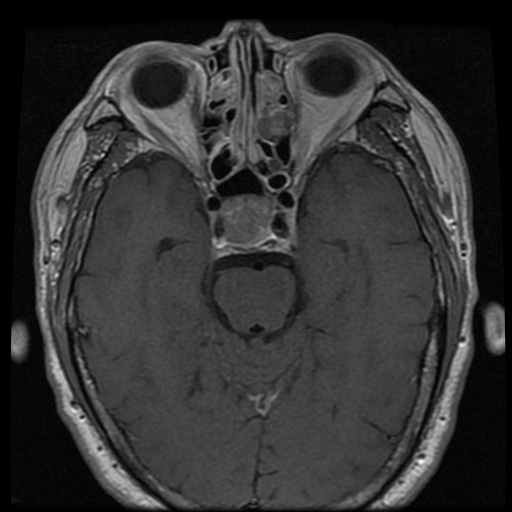pituitary: (221, 194, 272, 241)
